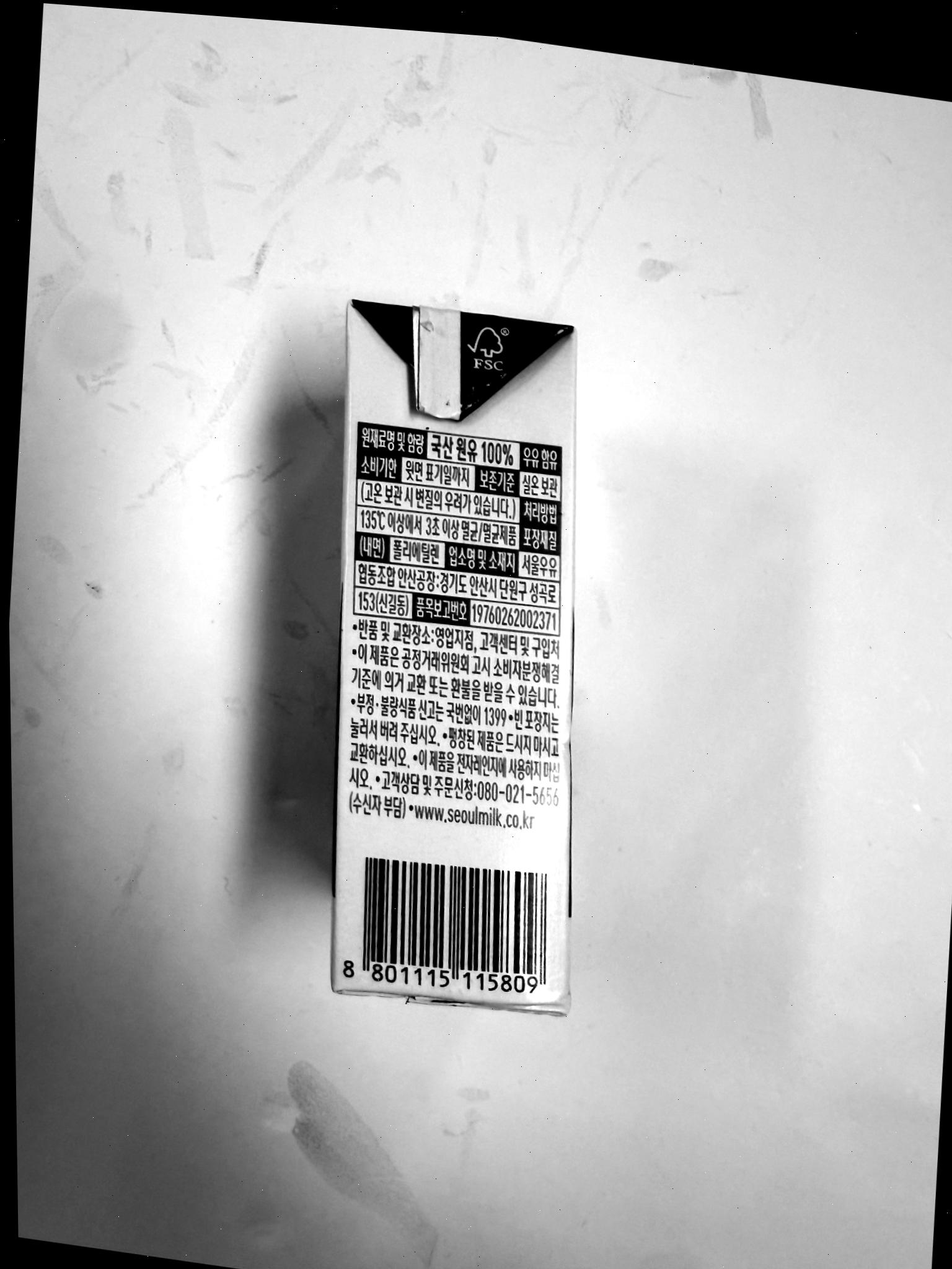milk_blue: (331, 299, 575, 1014)
